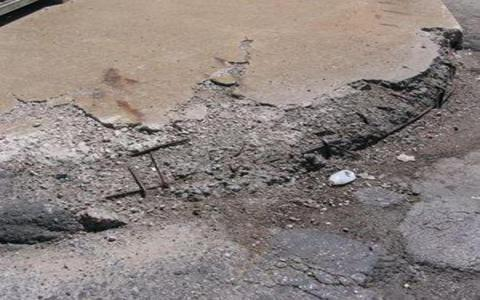patchy roads: (44, 70, 373, 263)
